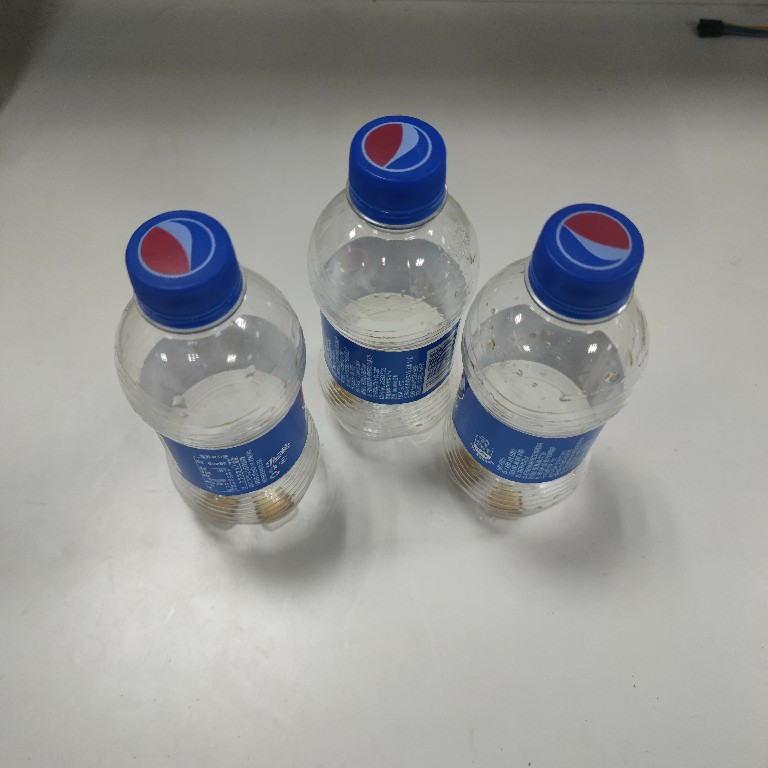bottle: (110, 205, 324, 538), (438, 200, 655, 526), (303, 113, 486, 448)
